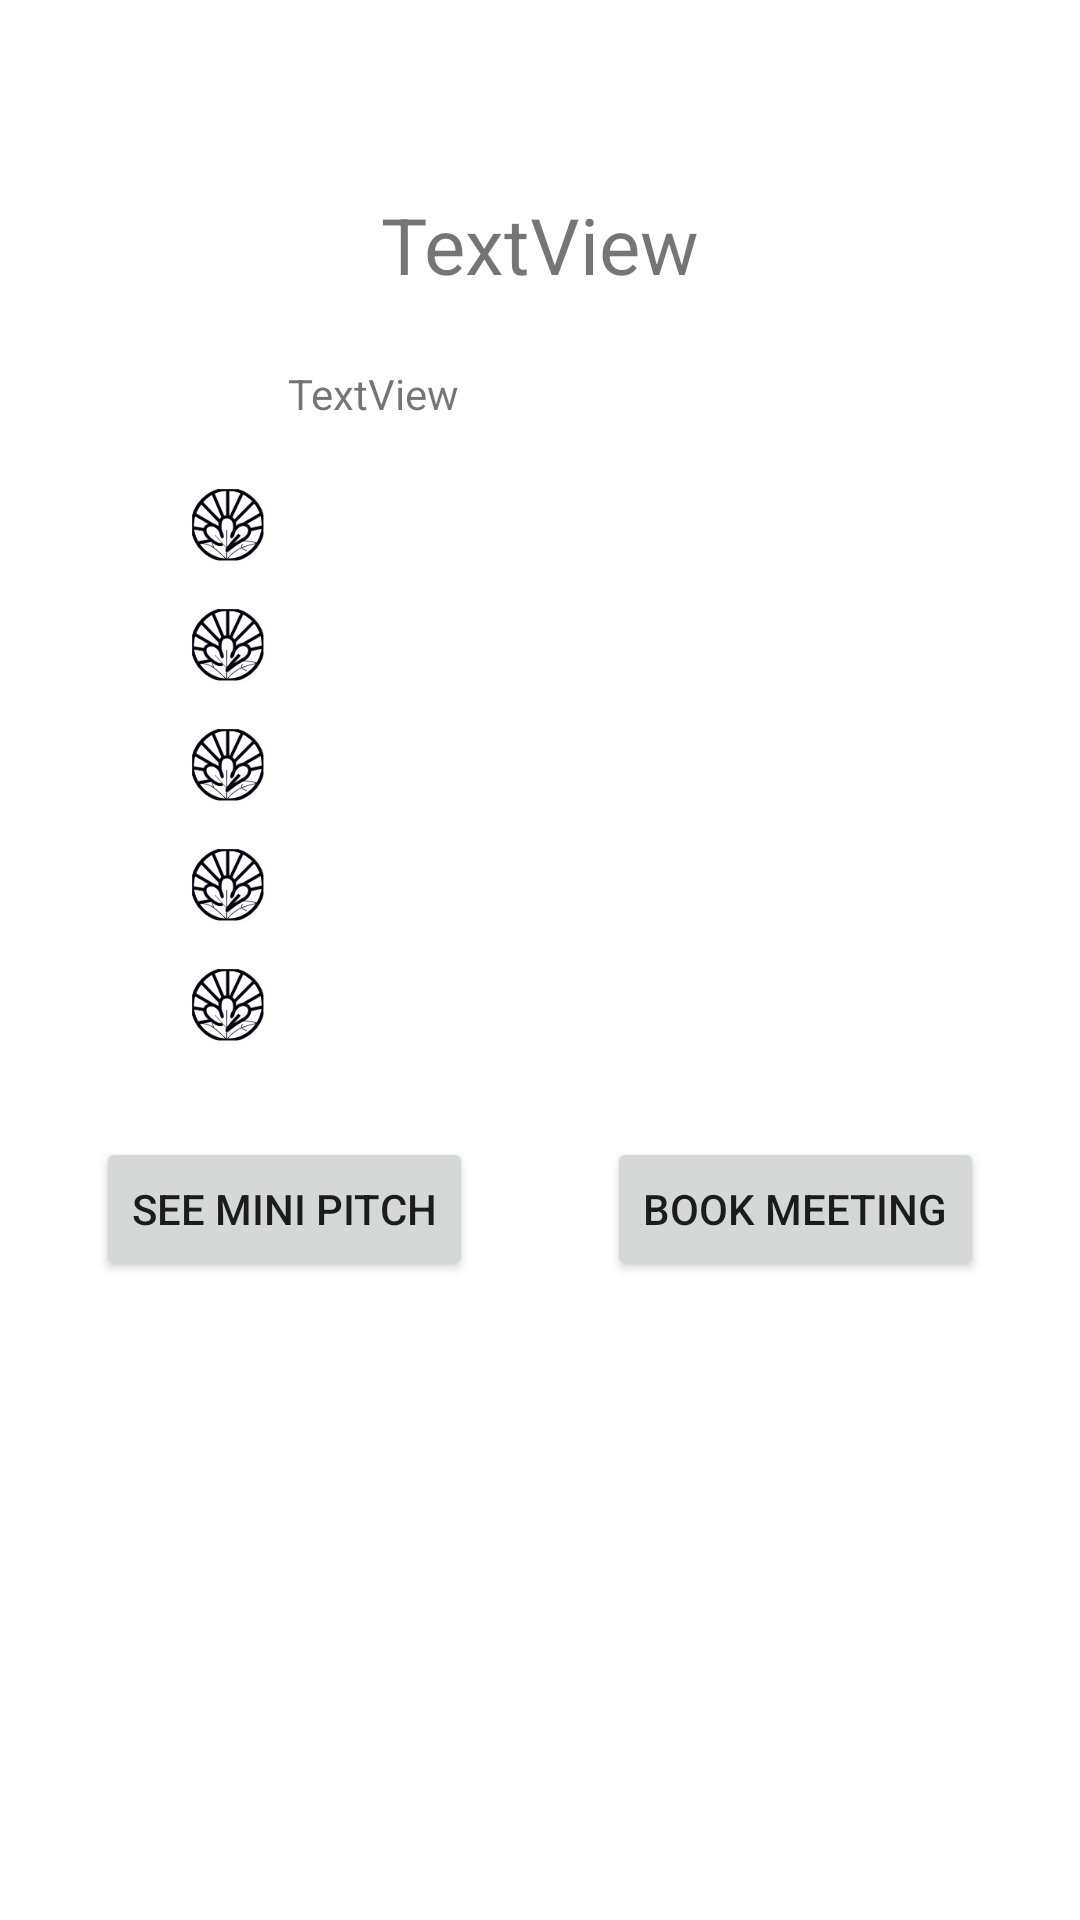

Locate icon controls on the screen. Image size 1080 × 1920, boxes as detection(x1, y1, x2, y2).
flower: detection(192, 489, 264, 561), detection(192, 609, 264, 681), detection(192, 729, 264, 801), detection(192, 849, 264, 921), detection(192, 969, 264, 1041)
